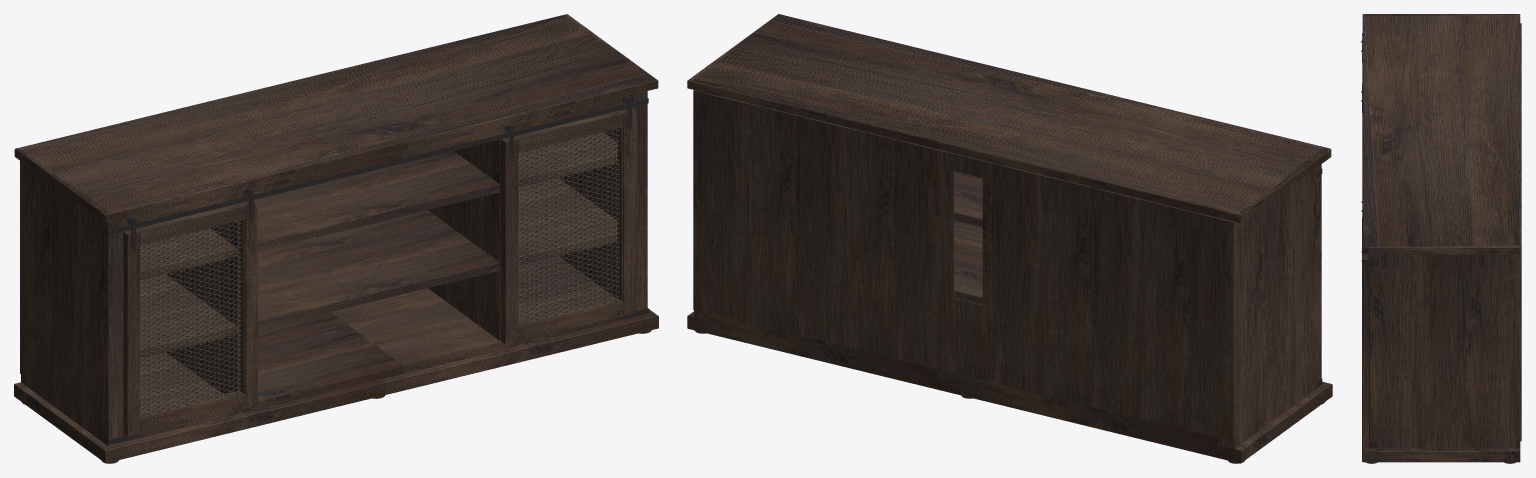
File: danell_ridge_w556-48_ashley.glb
3 views of the same model, side by side, from view 1: azimuth 30°, elevation 25°; view 2: azimuth 150°, elevation 25°; view 3: azimuth 270°, elevation 25° (orthographic). The views are drawn at different scales.
Visible parts, largest first — view 1: Mesh11_lthtdj_0, Mesh22_lthtdj_0, Mesh23_lthtdj_0, Mesh51_lthtdj_0, Mesh10_lthtdj_0, Mesh5_lthtdj_0, Mesh21_lthtdj_0, Mesh40_lthtdj_0, Mesh40_Fencing_Diamond_Mesh_0, Mesh5_Fencing_Diamond_Mesh_0, Mesh16_lthtdj_0, Mesh14_lthtdj_0 (+7 smaller); view 2: Mesh20_lthtdj_0, Mesh11_lthtdj_0, Mesh23_lthtdj_0, Mesh21_lthtdj_0, Mesh22_lthtdj_0, Mesh51_lthtdj_0, Mesh10_lthtdj_0; view 3: Mesh11_lthtdj_0, Mesh14_lthtdj_0, Mesh21_lthtdj_0, Mesh5_lthtdj_0, Mesh20_lthtdj_0.
Part boxes in pixels (<box>): Mesh11_lthtdj_0: <box>14,14,658,222</box>; Mesh22_lthtdj_0: <box>123,256,632,442</box>; Mesh23_lthtdj_0: <box>21,161,123,445</box>; Mesh51_lthtdj_0: <box>258,210,499,329</box>; Mesh10_lthtdj_0: <box>254,151,499,251</box>; Mesh5_lthtdj_0: <box>500,108,636,344</box>; Mesh21_lthtdj_0: <box>14,309,658,463</box>; Mesh40_lthtdj_0: <box>123,200,257,436</box>; Mesh40_Fencing_Diamond_Mesh_0: <box>140,221,241,416</box>; Mesh5_Fencing_Diamond_Mesh_0: <box>518,129,619,324</box>; Mesh16_lthtdj_0: <box>428,140,500,340</box>; Mesh14_lthtdj_0: <box>559,91,647,317</box>; Mesh20_lthtdj_0: <box>693,90,1234,441</box>; Mesh11_lthtdj_0: <box>687,14,1331,223</box>; Mesh23_lthtdj_0: <box>1219,164,1321,448</box>; Mesh21_lthtdj_0: <box>687,311,1332,463</box>; Mesh22_lthtdj_0: <box>709,314,1218,445</box>; Mesh51_lthtdj_0: <box>954,221,982,304</box>; Mesh10_lthtdj_0: <box>954,171,982,227</box>; Mesh11_lthtdj_0: <box>1362,14,1520,254</box>; Mesh14_lthtdj_0: <box>1369,254,1520,448</box>; Mesh21_lthtdj_0: <box>1362,218,1520,462</box>; Mesh5_lthtdj_0: <box>1362,254,1368,434</box>; Mesh20_lthtdj_0: <box>1520,23,1521,441</box>.
Size of the model in its own units: 17.78 by 7.72 by 5.16.
Materials: 4 (2 with a texture image).
